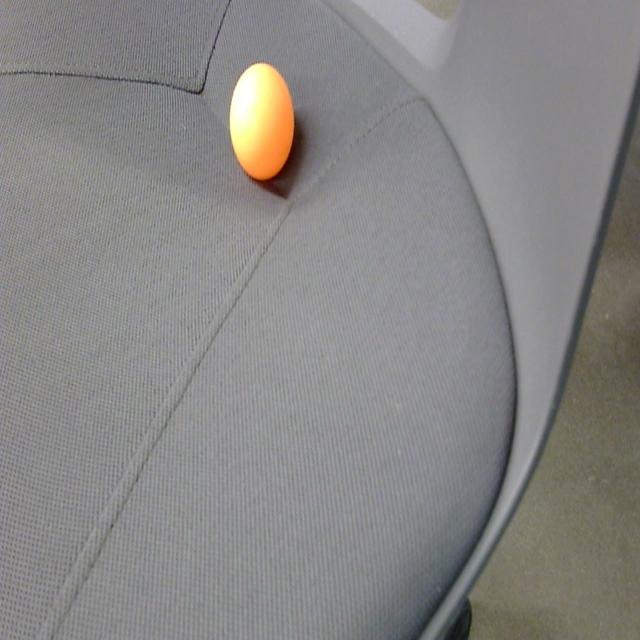ball: (229, 60, 295, 185)
